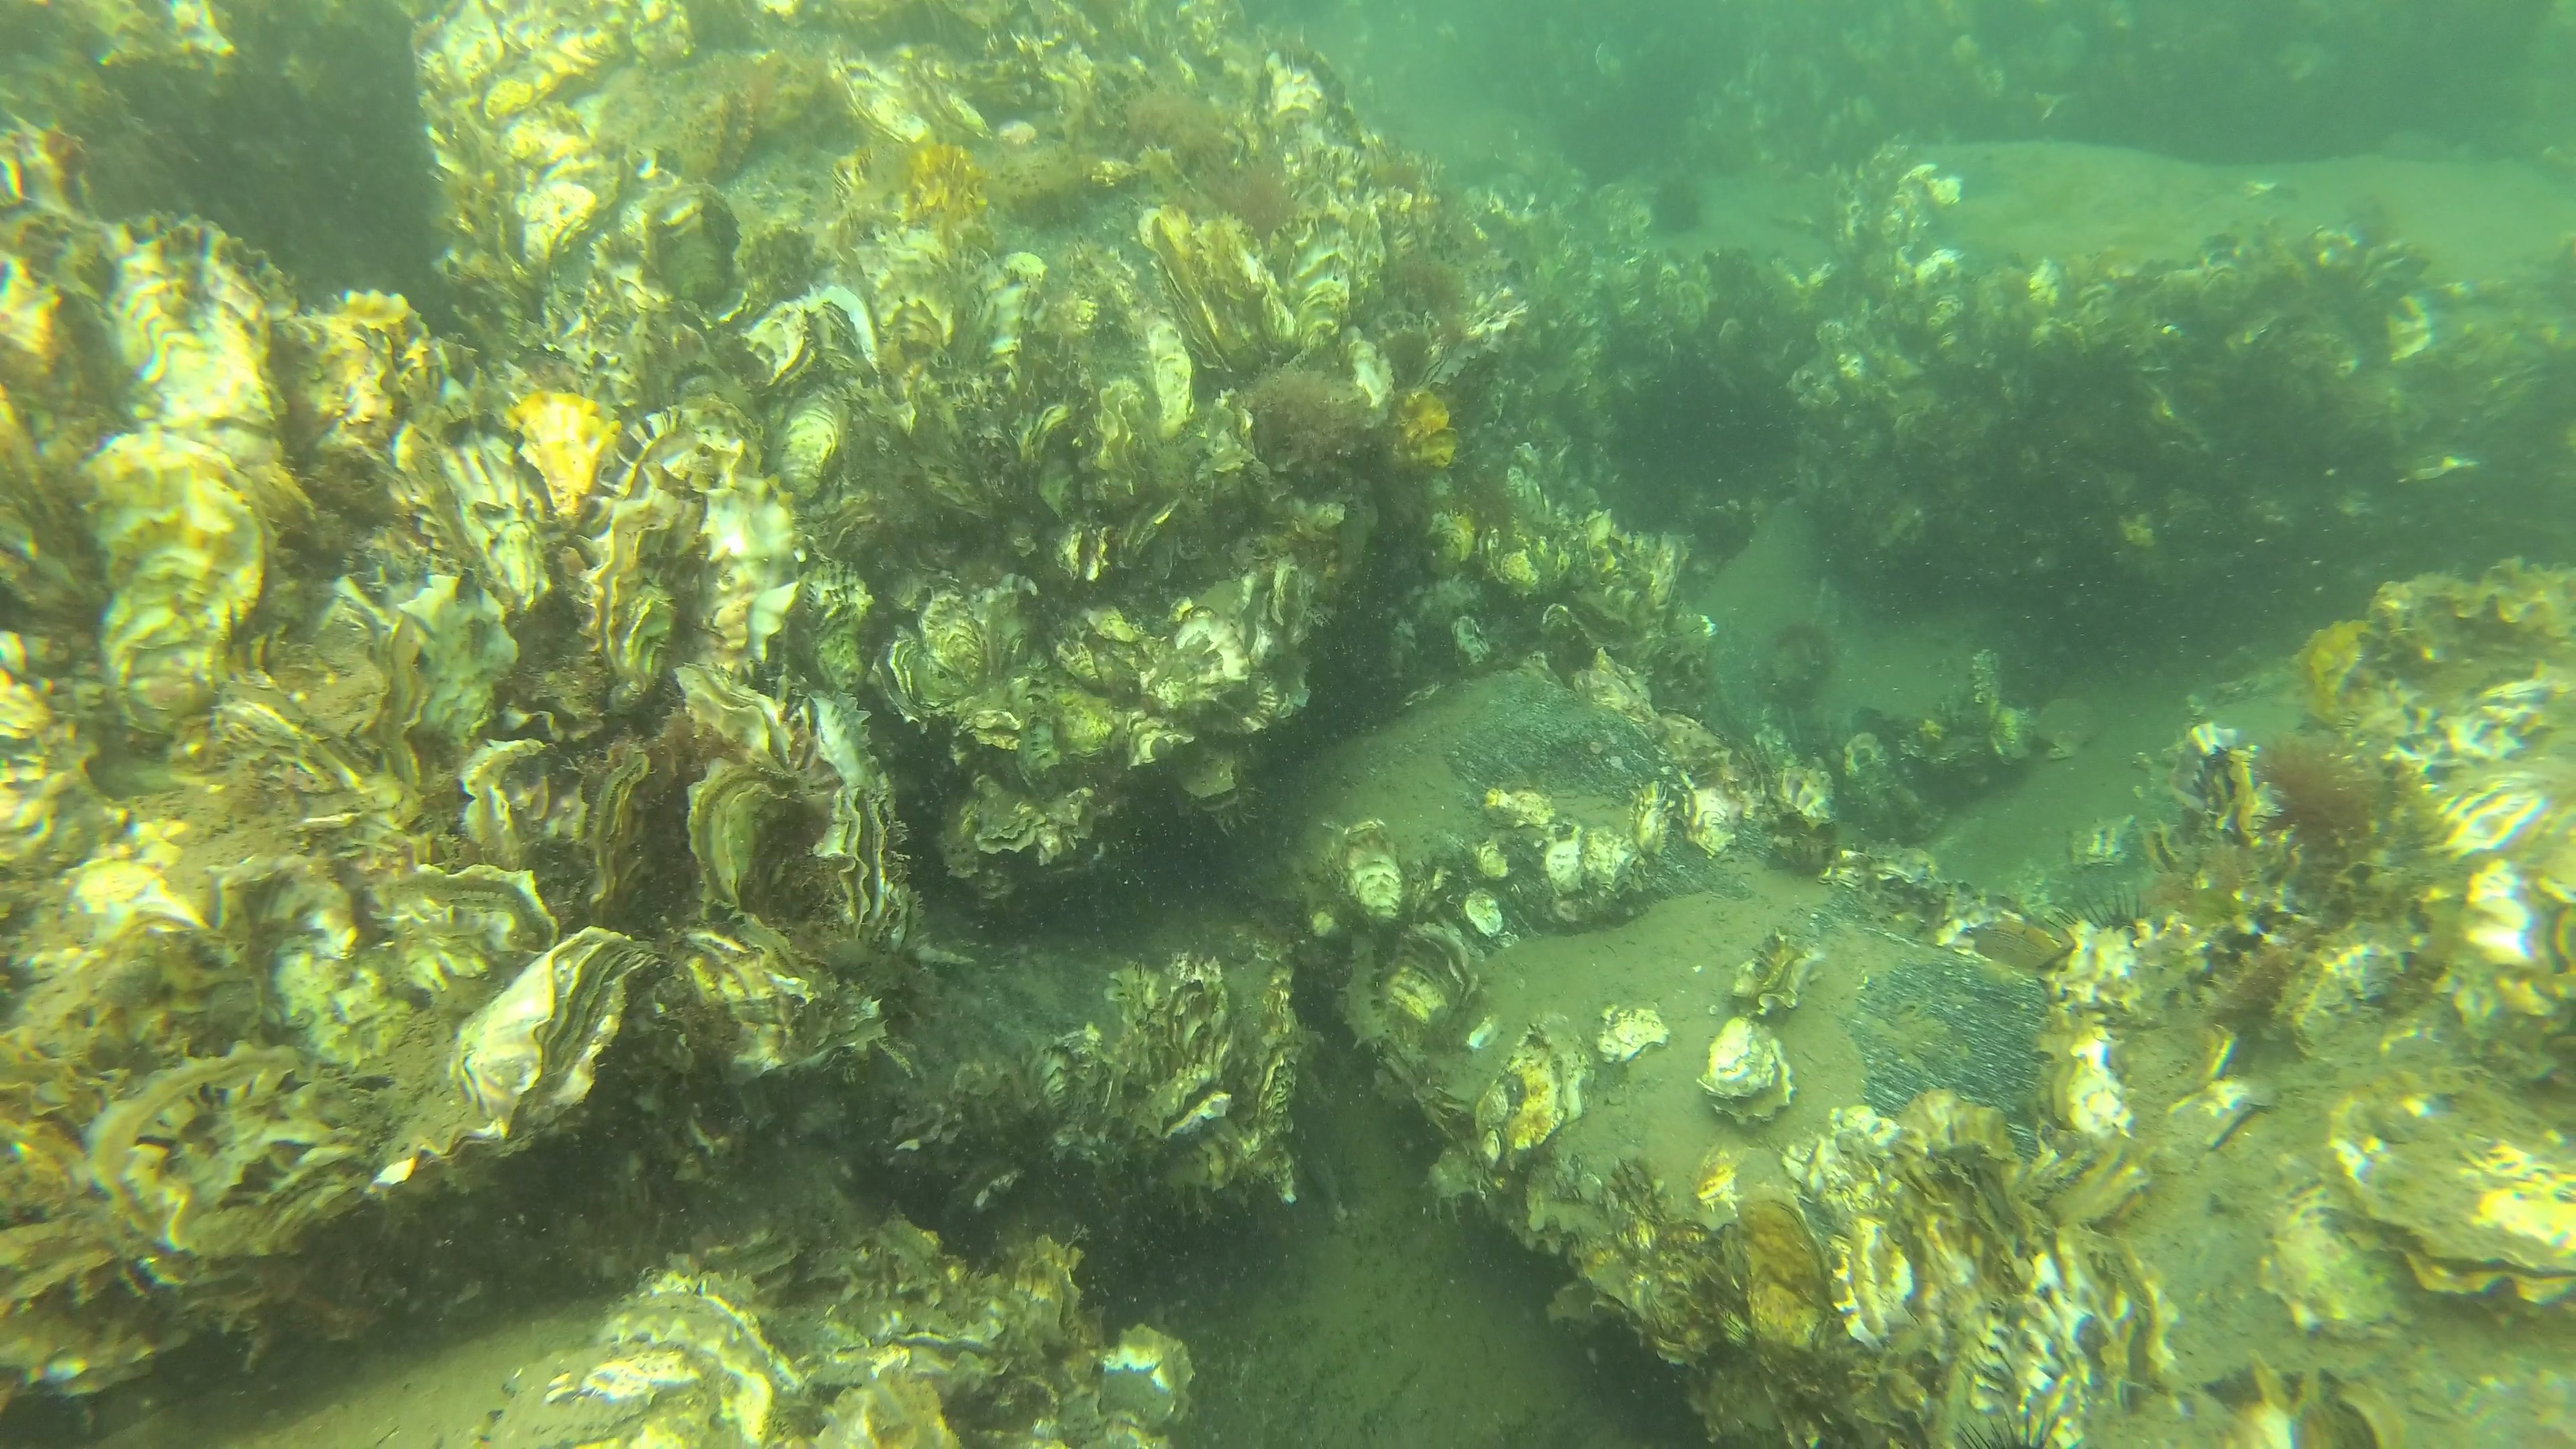echinus: (1642, 179, 1698, 239)
holothurian: (1322, 931, 1387, 1054)
